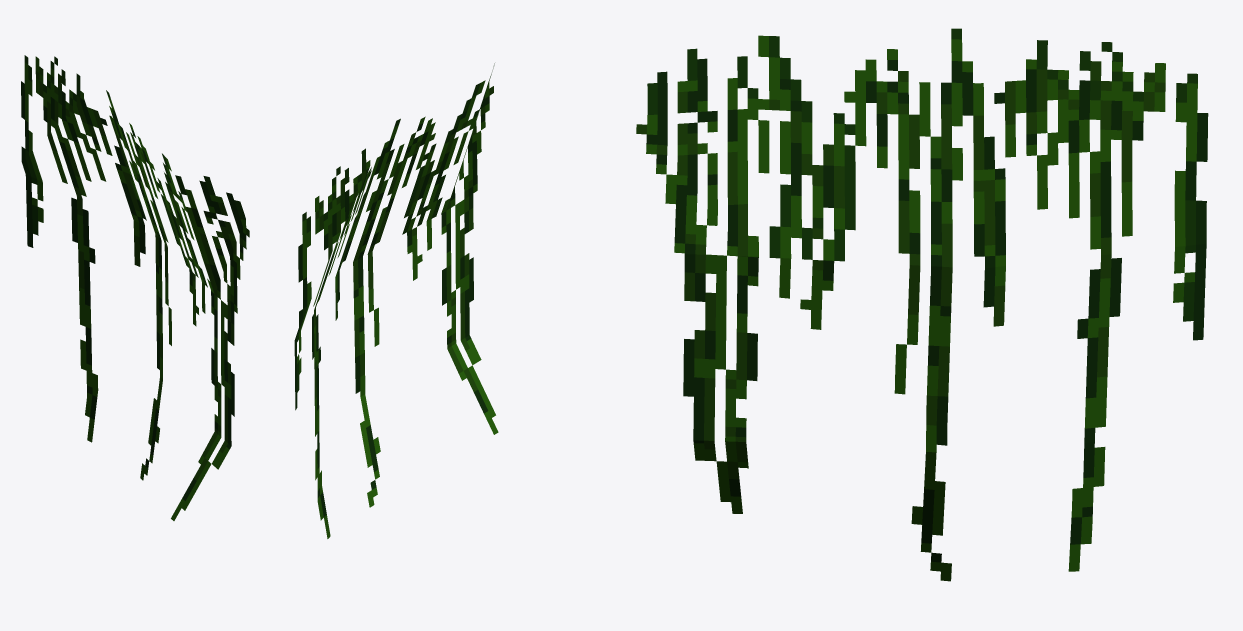
File: moss1.glb
3 renders of one model, left to right at view 1: azimuth 30°, elevation 25°; view 2: azimuth 150°, elevation 25°; view 3: azimuth 270°, elevation 25°, orthographic. The views are drawn at different scales.
Visible parts, largest first — view 1: Plane; view 2: Plane; view 3: Plane.
Boxes of the visible parts, x1=… form: Plane: x1=21, y1=55, x2=249, y2=520; Plane: x1=294, y1=63, x2=498, y2=538; Plane: x1=636, y1=28, x2=1208, y2=581.
Bounding box in the file's own units: 0.2394 × 1 × 1.
Materials: 1 (1 with a texture image).
